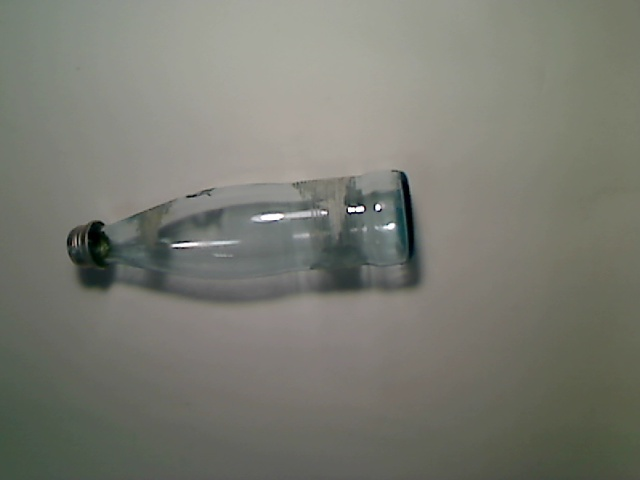bottle: (66, 169, 415, 283)
